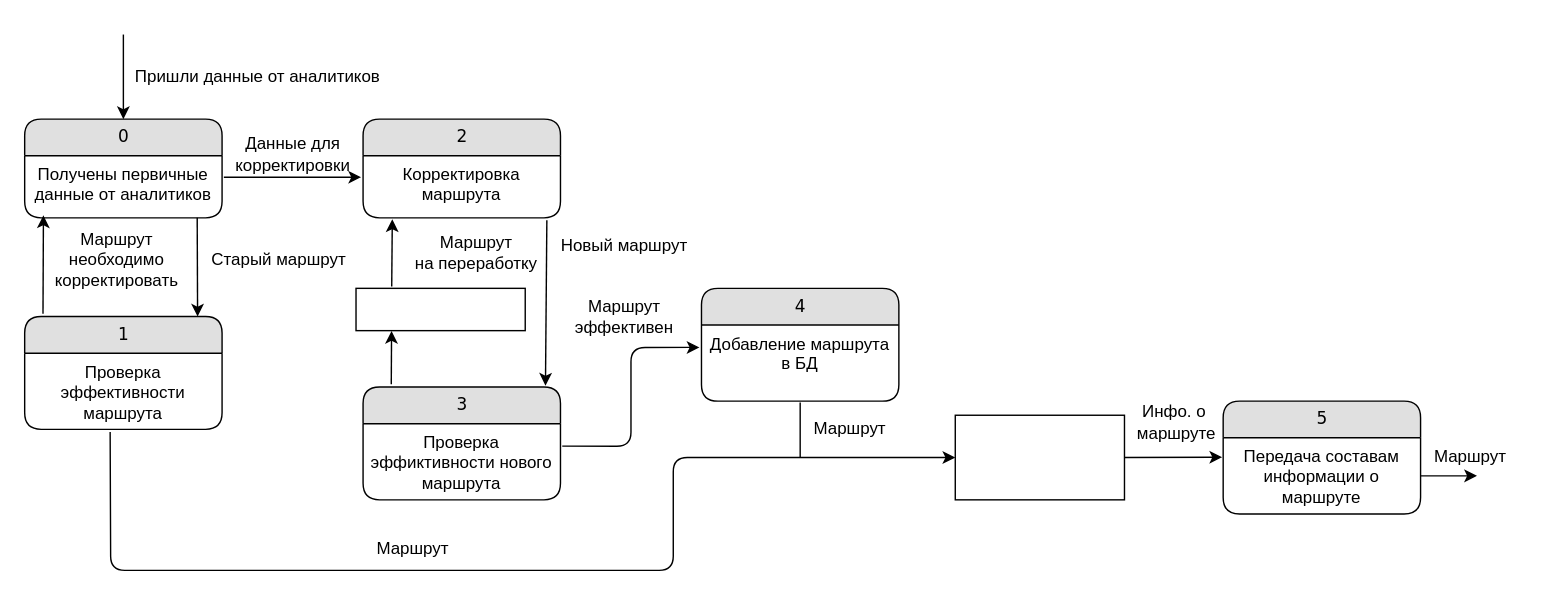
Some shapes in this 1544 by 606 pixel diagram are drawn without their labels. The centre of each missing label's shape, as x and y in pixels:
"Аналитик" goes at (x=440, y=309).
"Диспетчер" goes at (x=1039, y=457).
